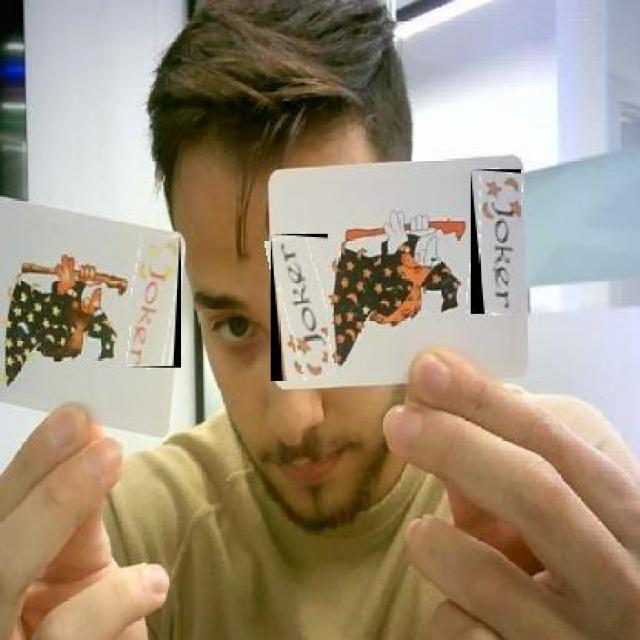RED JOKER: (270, 234, 328, 380), (471, 169, 520, 314), (131, 236, 180, 369)
